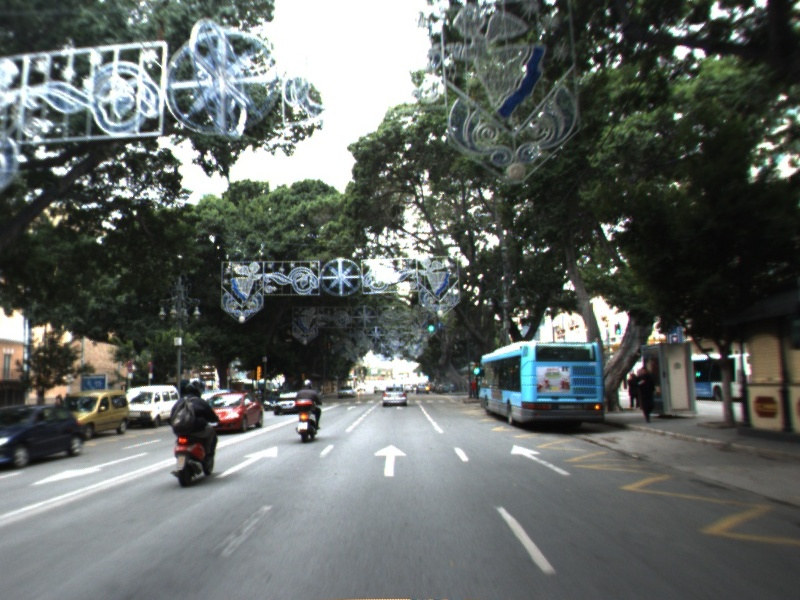STRAIGHT: (212, 445, 279, 480), (508, 442, 573, 477), (372, 443, 408, 478)
